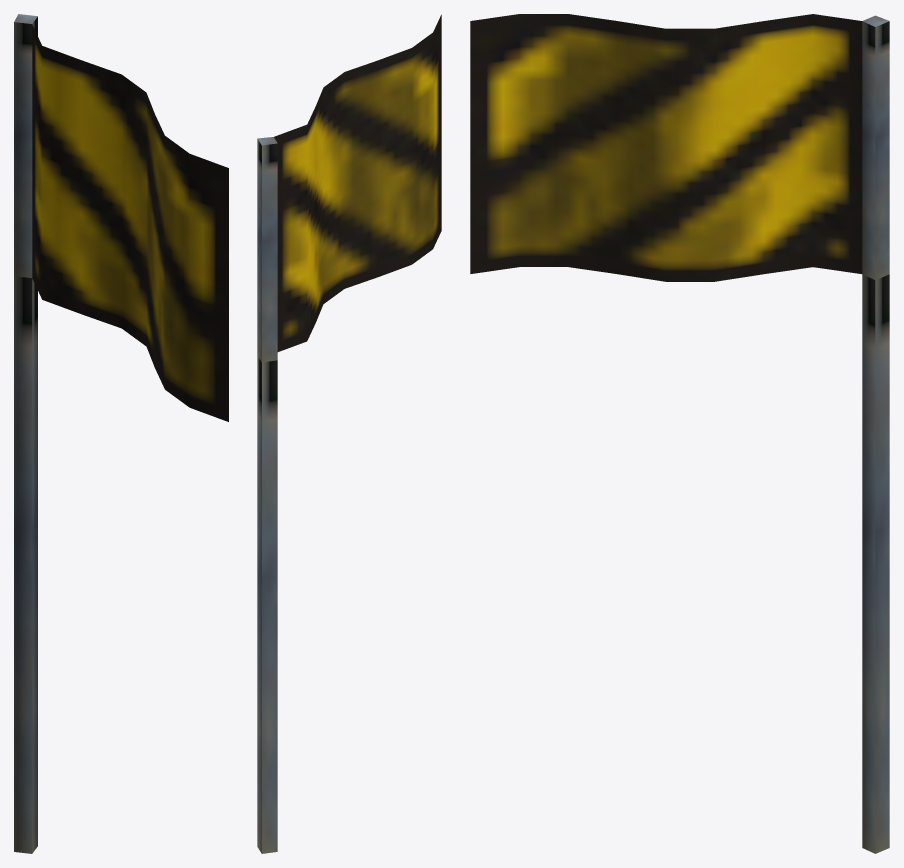
File: prop-028.glb
The picture shows the model from 3 angles, left to right: view 1: azimuth 30°, elevation 25°; view 2: azimuth 150°, elevation 25°; view 3: azimuth 270°, elevation 25°; orthographic projection. The views are drawn at different scales.
Visible parts, largest first — view 1: root; view 2: root; view 3: root.
Part boxes in pixels (x1,y1,x2,y2): root: (14,14,228,853); root: (257,14,441,853); root: (470,14,889,853).
Bounding box in the file's own units: 0.0566 × 1.49 × 0.6836.
2 materials, 2 textured.
